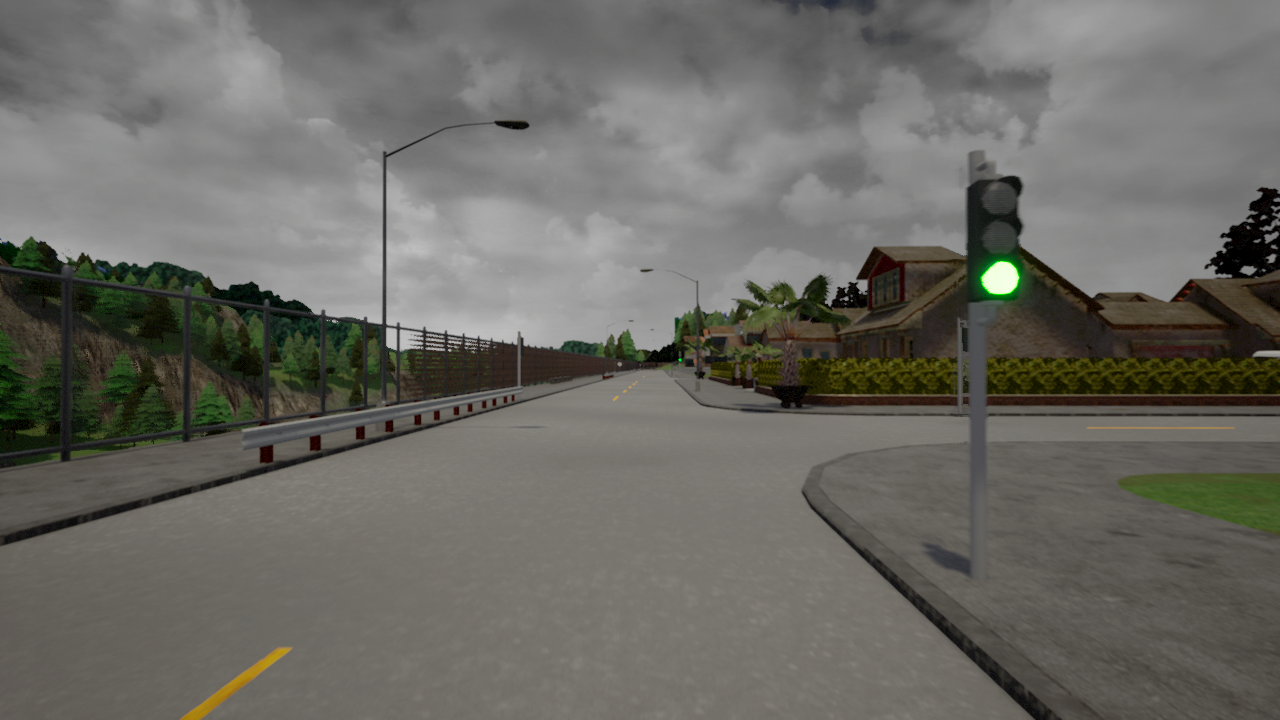green: (967, 176, 1027, 307)
